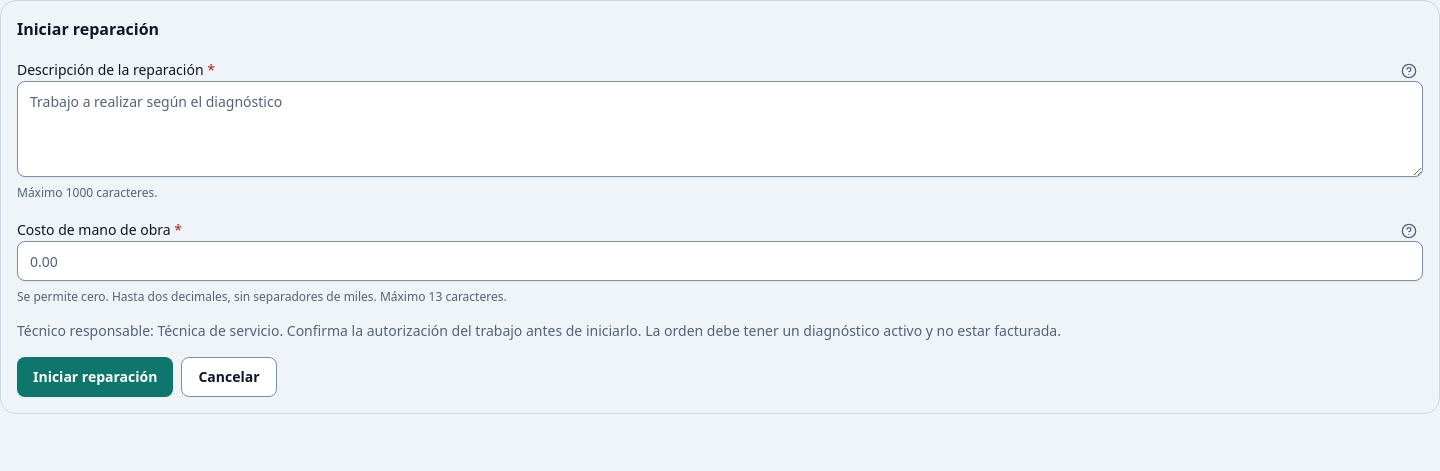
Test case: reparaciones operativas › inicia reparación con DTO sin IDs de diagnóstico/técnico y confirmación explícita
In the text box labelled "Descripción de la reparación *": (720, 129) x1=17 y1=81 x2=1423 y2=177, type "Reparar alimentación"
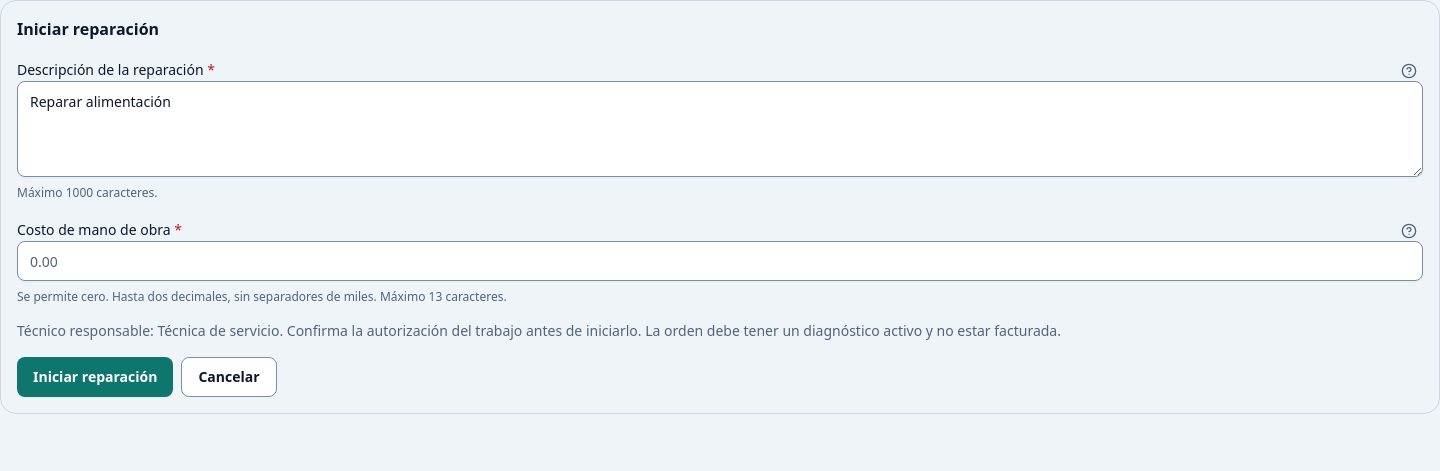
In the field labelled "Costo de mano de obra *": (720, 261) x1=17 y1=241 x2=1423 y2=281, type "125"
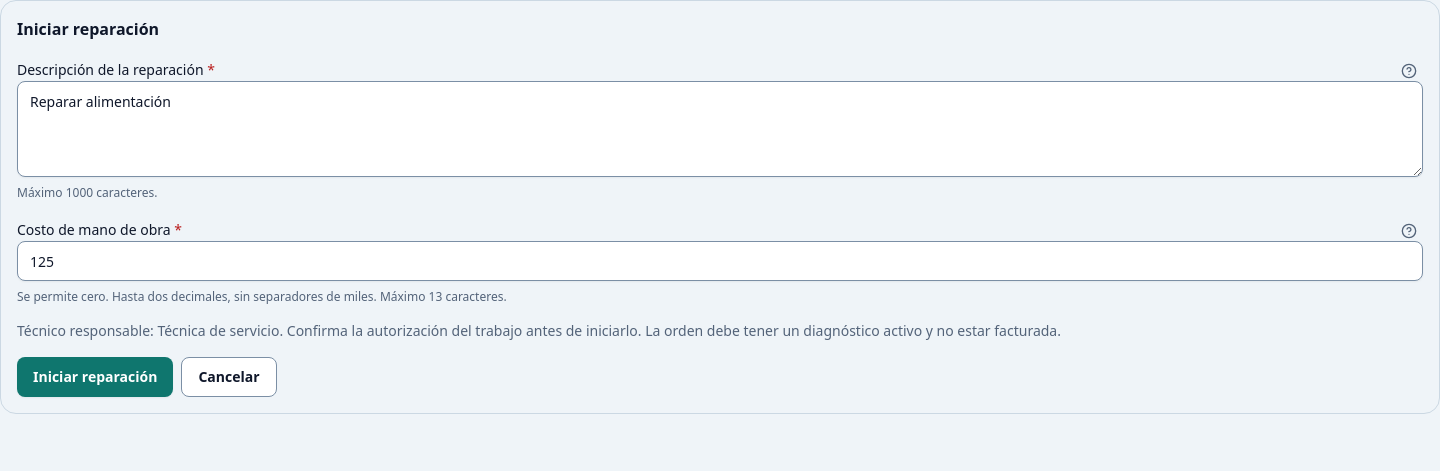
Submit the form "Iniciar reparación"
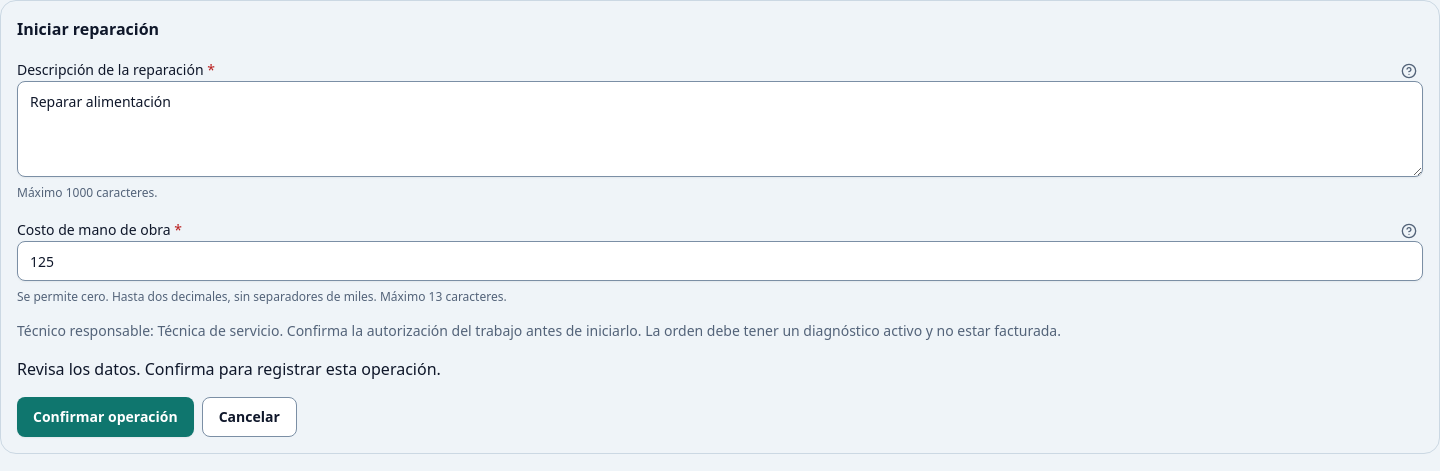
Click the button "Confirmar operación": (105, 417) x1=17 y1=397 x2=194 y2=437
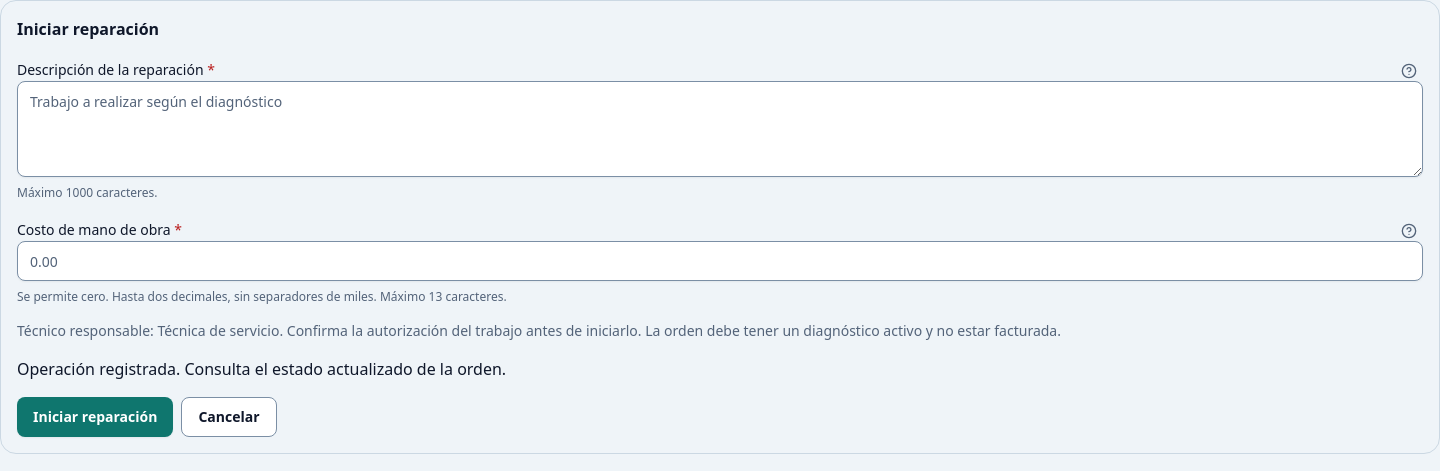
Now the text "Operación registrada. Consulta el estado actualizado de la orden." is shown, box x1=17 y1=358 x2=506 y2=380
